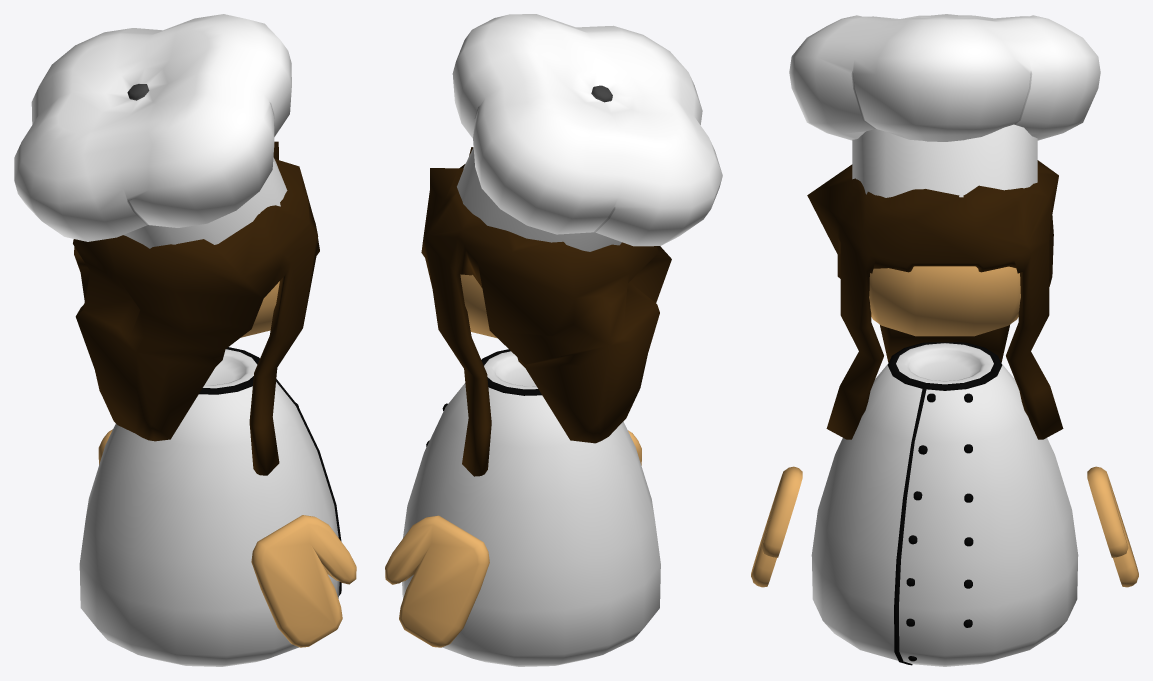
Rendered from Mae Alfrace.fbx.
3 renders of one model, left to right at view 1: azimuth 30°, elevation 25°; view 2: azimuth 150°, elevation 25°; view 3: azimuth 270°, elevation 25°, orthographic.
Parts seen in each view (by area): view 1: Chap'eu, Corpo, Cabelo, Mao 1; view 2: Chap'eu, Corpo, Cabelo, Mao 2; view 3: Corpo, Chap'eu, Cabelo, Mao 1, Mao 2.
Boxes of the visible parts, <box> form: Chap'eu: <box>14,14,291,248</box>; Corpo: <box>79,347,341,666</box>; Cabelo: <box>73,141,319,475</box>; Mao 1: <box>251,515,356,647</box>; Chap'eu: <box>452,14,722,251</box>; Corpo: <box>402,349,660,666</box>; Cabelo: <box>421,147,671,476</box>; Mao 2: <box>385,515,489,647</box>; Corpo: <box>811,342,1078,666</box>; Chap'eu: <box>789,14,1100,197</box>; Cabelo: <box>807,160,1063,439</box>; Mao 1: <box>751,466,802,587</box>; Mao 2: <box>1087,466,1138,587</box>.
Bounding box in the file's own units: 270 × 525 × 303.
